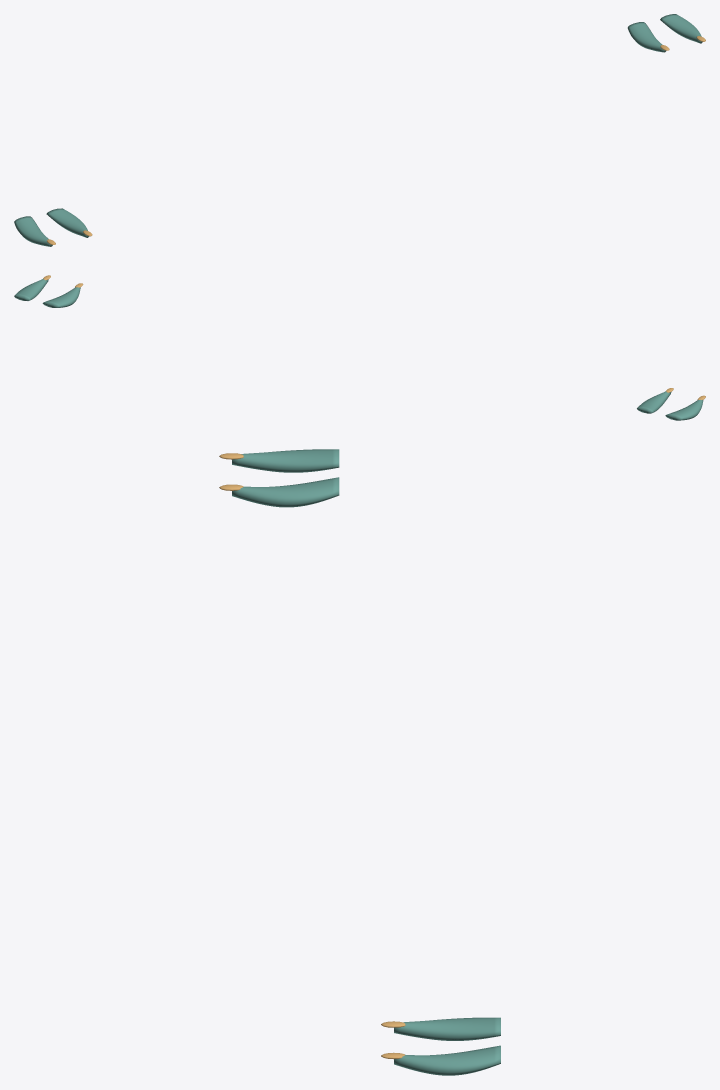
Rendered from bridge_contact_pilot_v2.glb.
3 renders of one model, top to bottom at view 1: azimuth 30°, elevation 25°; view 2: azimuth 150°, elevation 25°; view 3: azimuth 270°, elevation 25°, orthographic. The views are drawn at different scales.
Visible parts, largest first — view 1: VF_voyage_contact_leaf_-1, VF_crew_contact_leaf_-1, VF_crew_contact_leaf_1, VF_voyage_contact_leaf_1; view 2: VF_voyage_contact_leaf_-1, VF_crew_contact_leaf_-1, VF_voyage_contact_leaf_1, VF_crew_contact_leaf_1; view 3: VF_voyage_contact_leaf_1, VF_voyage_contact_leaf_-1, VF_crew_contact_leaf_1, VF_crew_contact_leaf_-1.
Part boxes in pixels (x1,y1,x2,y2): VF_voyage_contact_leaf_-1: (14,216,52,246); VF_crew_contact_leaf_-1: (627,22,665,52); VF_crew_contact_leaf_1: (660,14,702,43); VF_voyage_contact_leaf_1: (46,208,88,237); VF_voyage_contact_leaf_-1: (665,399,703,420); VF_crew_contact_leaf_-1: (42,287,80,307); VF_voyage_contact_leaf_1: (637,391,671,413); VF_crew_contact_leaf_1: (14,279,48,300); VF_voyage_contact_leaf_1: (232,477,339,507); VF_voyage_contact_leaf_-1: (232,449,339,472); VF_crew_contact_leaf_1: (394,1045,500,1075); VF_crew_contact_leaf_-1: (394,1017,500,1040).
Size of the model in its own units: 17.76 by 0.2568 by 3.42.
